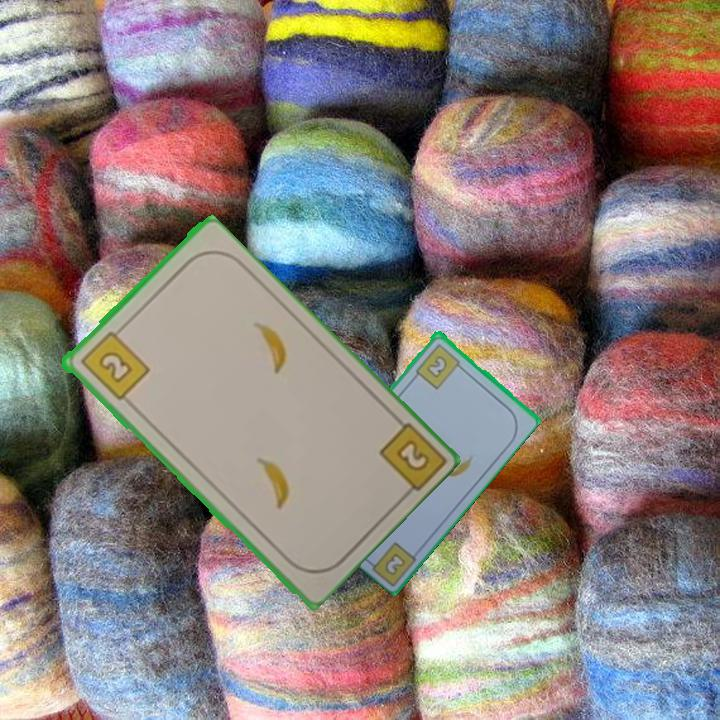2b: (76, 324, 152, 403), (412, 339, 466, 392), (392, 435, 432, 475), (383, 551, 406, 576)
